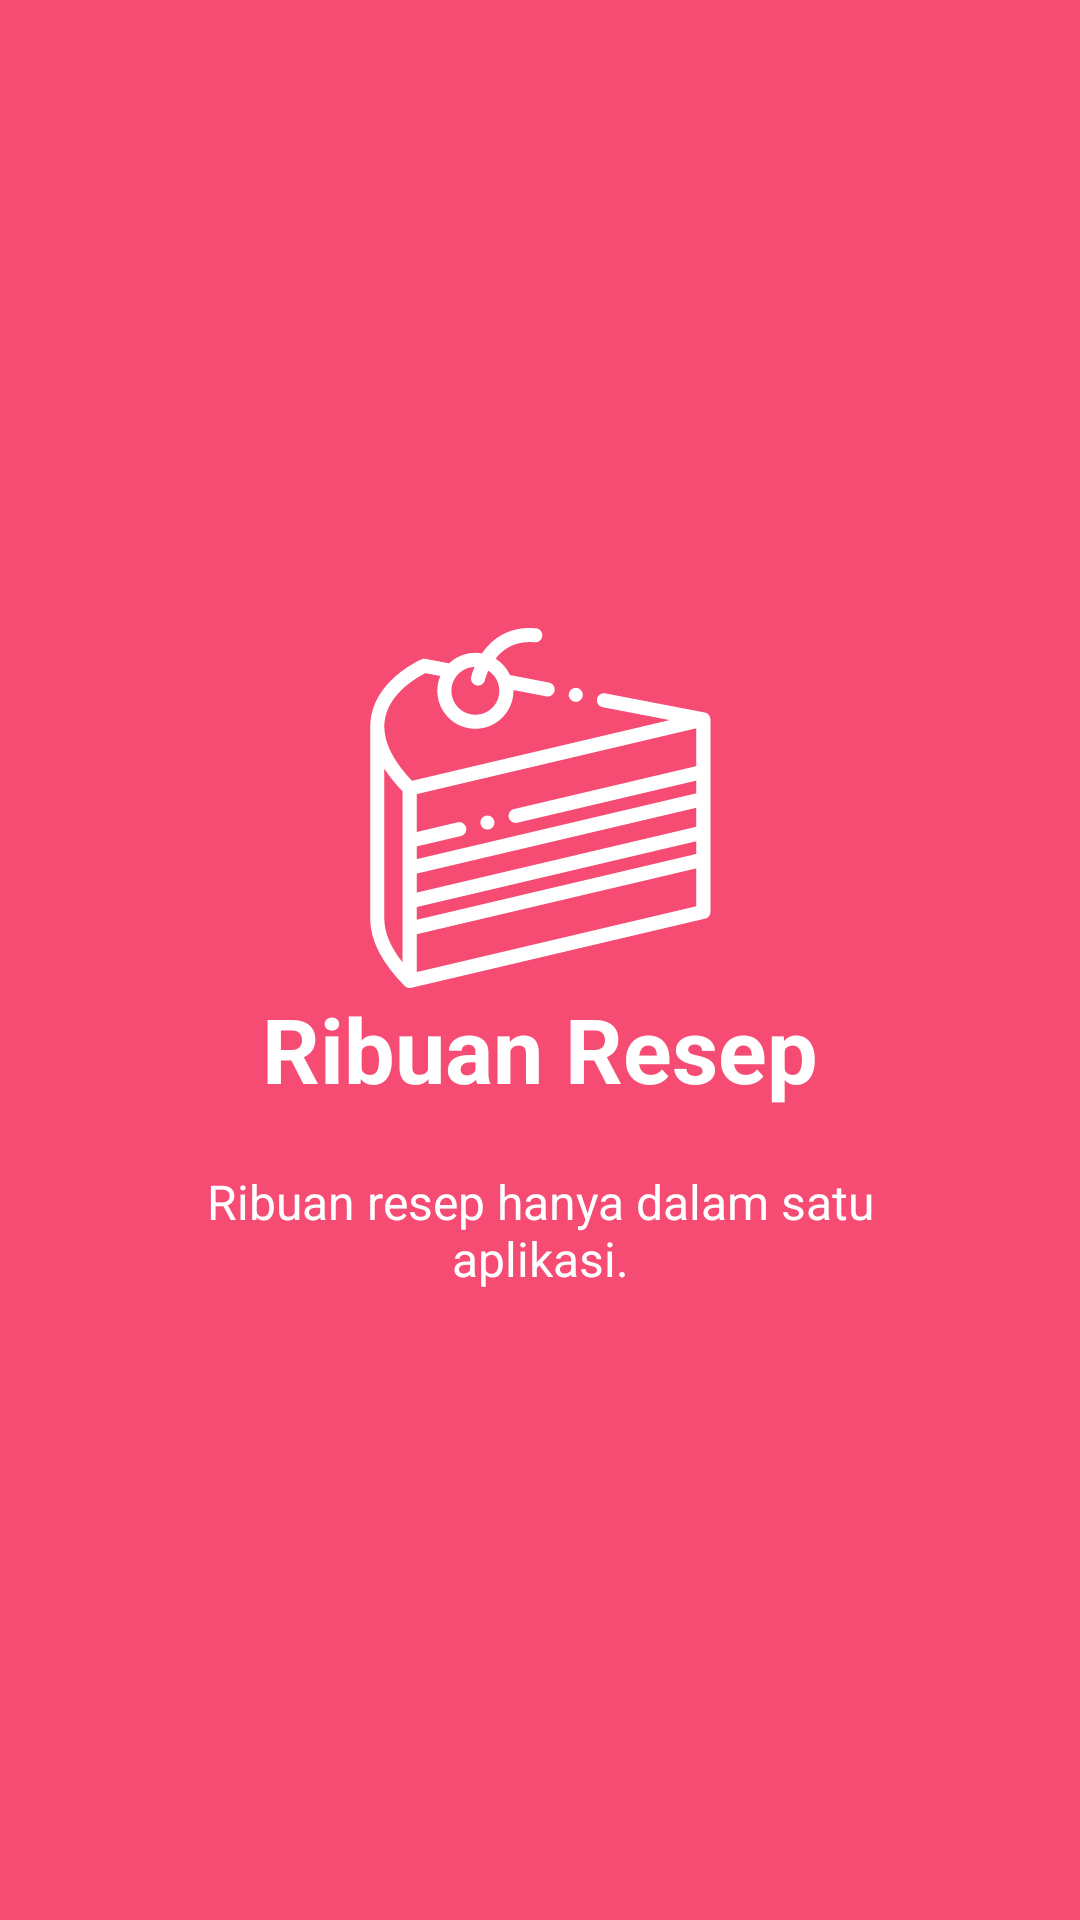

Named icons in this screenshot (1080 x 1920) and their centers, [x,y]:
cake: [540,808]
